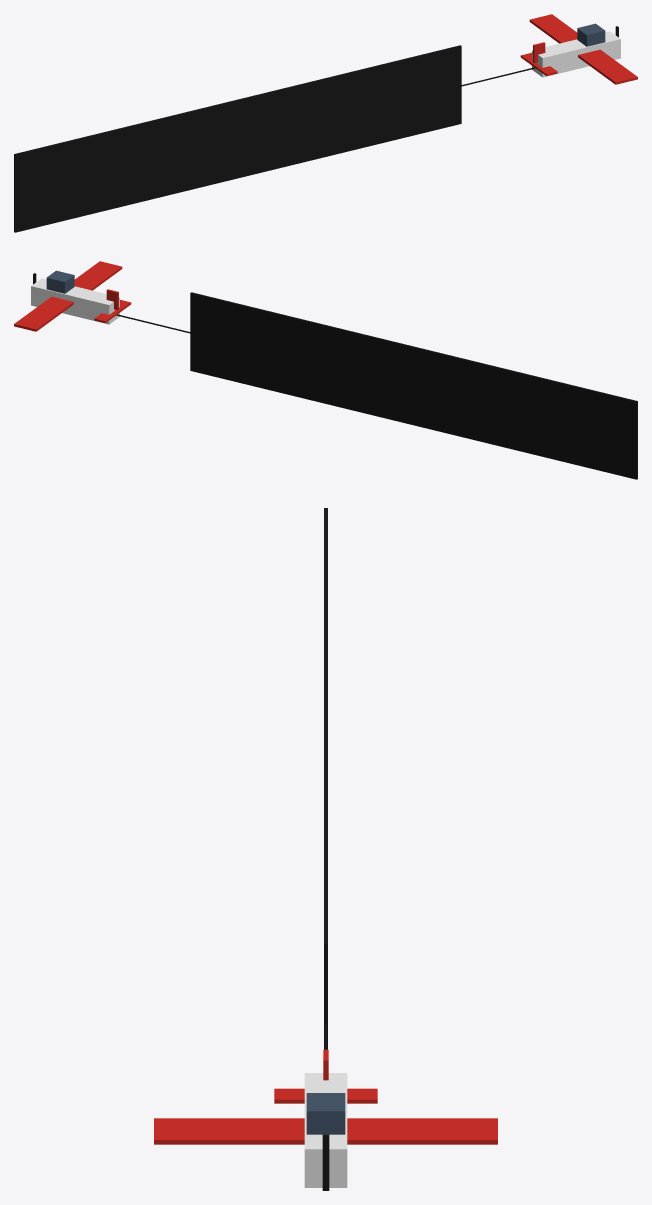
The model's file is avioneta_led.obj.
The picture shows the model from 3 angles, top to bottom: view 1: azimuth 30°, elevation 25°; view 2: azimuth 150°, elevation 25°; view 3: azimuth 270°, elevation 25°; orthographic projection. The views are drawn at different scales.
Parts seen in each view (by area): view 1: avioneta_led; view 2: avioneta_led; view 3: avioneta_led.
Boxes of the visible parts, box(x1,y1,x2,y2) form: avioneta_led: box(14, 14, 637, 232); avioneta_led: box(14, 261, 637, 479); avioneta_led: box(154, 508, 497, 1190).
Bounding box in the file's own units: 32.45 × 4 × 8.
